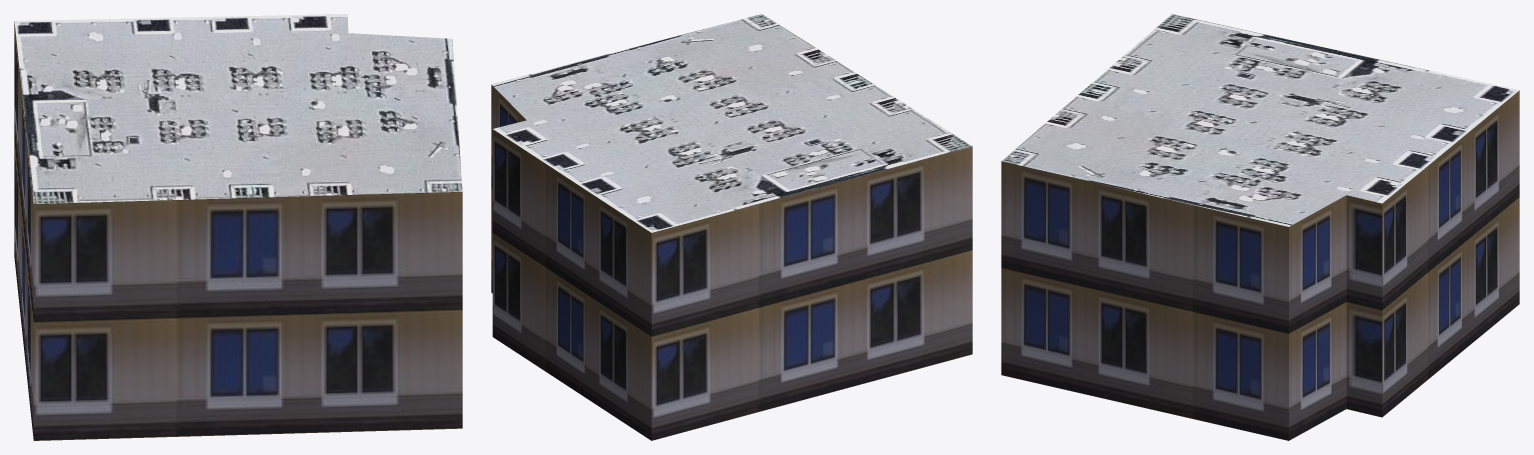
File: ResTex__659.fbx
The picture shows the model from 3 angles, left to right: view 1: azimuth 30°, elevation 25°; view 2: azimuth 150°, elevation 25°; view 3: azimuth 270°, elevation 25°; orthographic projection. The views are drawn at different scales.
Parts seen in each view (by area): view 1: CityEngineMaterial_5_m, CityEngineMaterial_m; view 2: CityEngineMaterial_5_m, CityEngineMaterial_m; view 3: CityEngineMaterial_5_m, CityEngineMaterial_m.
Part boxes in pixels (left/top/right/bottom): CityEngineMaterial_5_m: left=14, top=21, right=462, bottom=440; CityEngineMaterial_m: left=14, top=14, right=462, bottom=203; CityEngineMaterial_5_m: left=491, top=85, right=972, bottom=440; CityEngineMaterial_m: left=491, top=14, right=972, bottom=232; CityEngineMaterial_5_m: left=1001, top=90, right=1519, bottom=440; CityEngineMaterial_m: left=1001, top=14, right=1518, bottom=226.
Bounding box in the file's own units: 12.82 × 6 × 13.18.
Materials: 2 (2 with a texture image).
